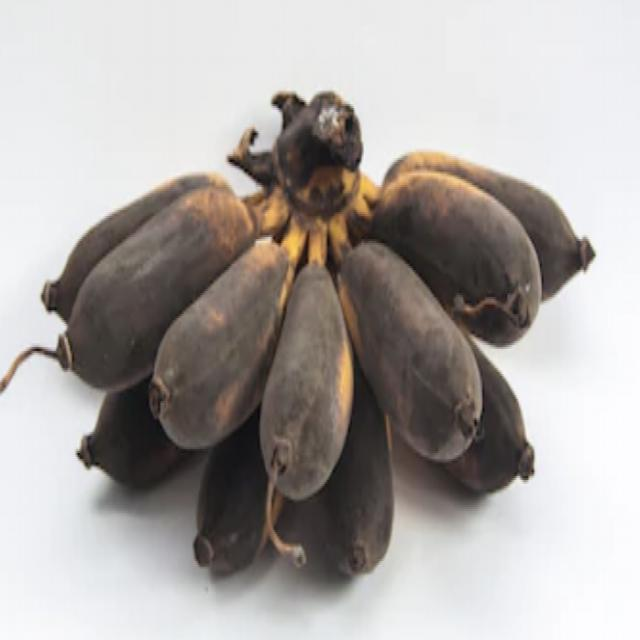rotten-banana: (38, 190, 250, 370), (337, 230, 484, 458), (153, 226, 291, 449), (268, 246, 348, 491), (419, 184, 543, 324), (460, 359, 525, 517), (333, 402, 397, 560), (193, 465, 277, 573), (76, 377, 152, 491)
